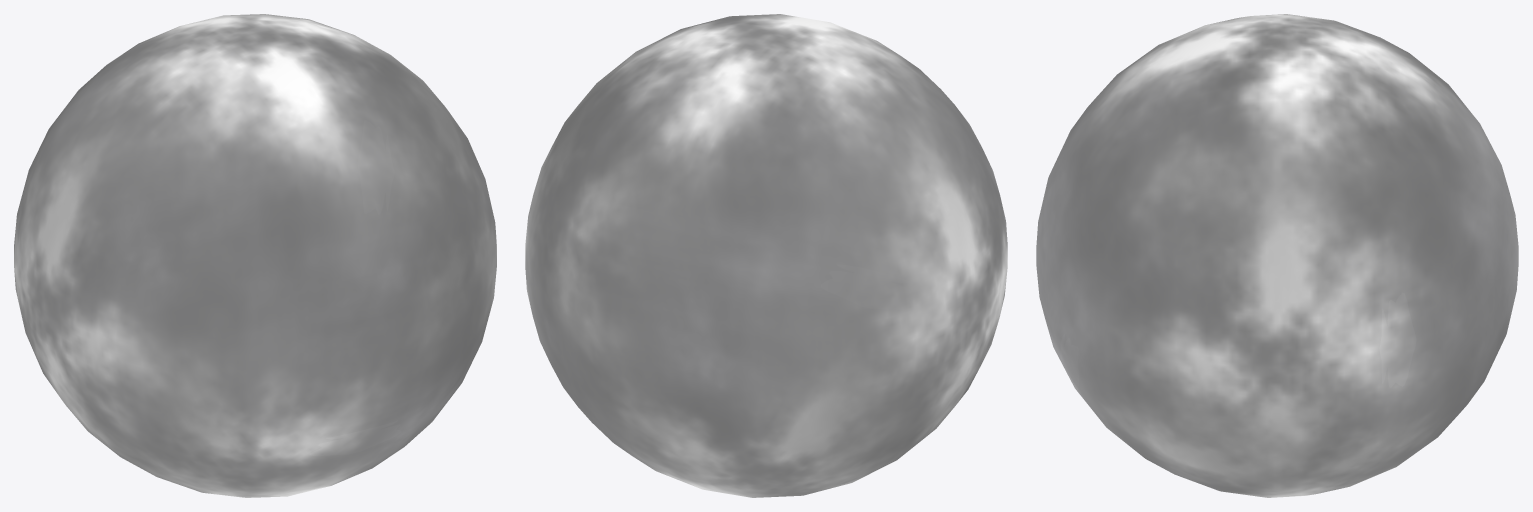
File: si_mes_28ba.glb
3 renders of one model, left to right at view 1: azimuth 30°, elevation 25°; view 2: azimuth 150°, elevation 25°; view 3: azimuth 270°, elevation 25°, orthographic.
Parts seen in each view (by area): view 1: layer_00_si_est_0101, layer_01_si_est_0101; view 2: layer_00_si_est_0101, layer_01_si_est_0101; view 3: layer_00_si_est_0101, layer_01_si_est_0101.
Boxes of the visible parts, x1,y1,x2,y2 form: layer_00_si_est_0101: (14,14,496,497); layer_01_si_est_0101: (14,29,496,489); layer_00_si_est_0101: (532,14,1004,497); layer_01_si_est_0101: (525,16,1007,495); layer_00_si_est_0101: (1036,14,1518,497); layer_01_si_est_0101: (1036,26,1517,495).
Bounding box in the file's own units: 1320 × 1320 × 1313.
1 material, 1 textured.
